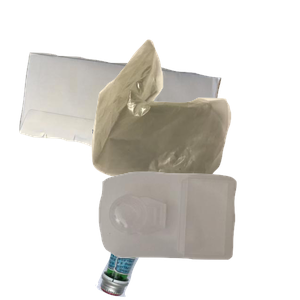glass: (93, 143, 284, 300)
paper: (17, 50, 231, 230)
plastic: (96, 169, 300, 300)
trash: (89, 37, 300, 213)
